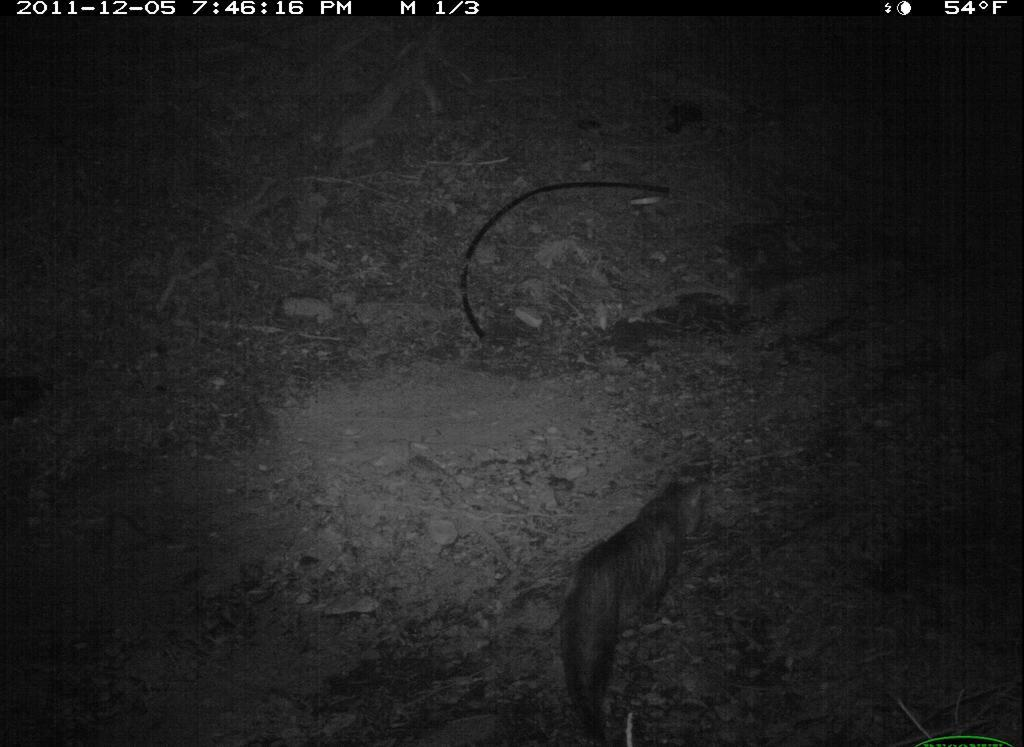cat: (547, 465, 758, 745)
